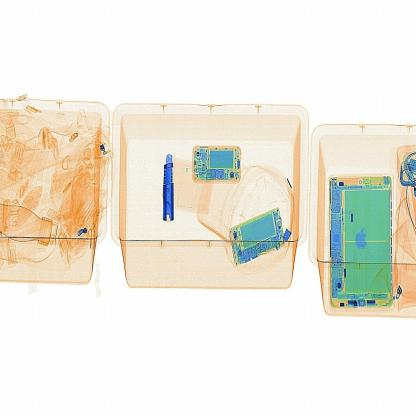pliers: (159, 146, 186, 230)
